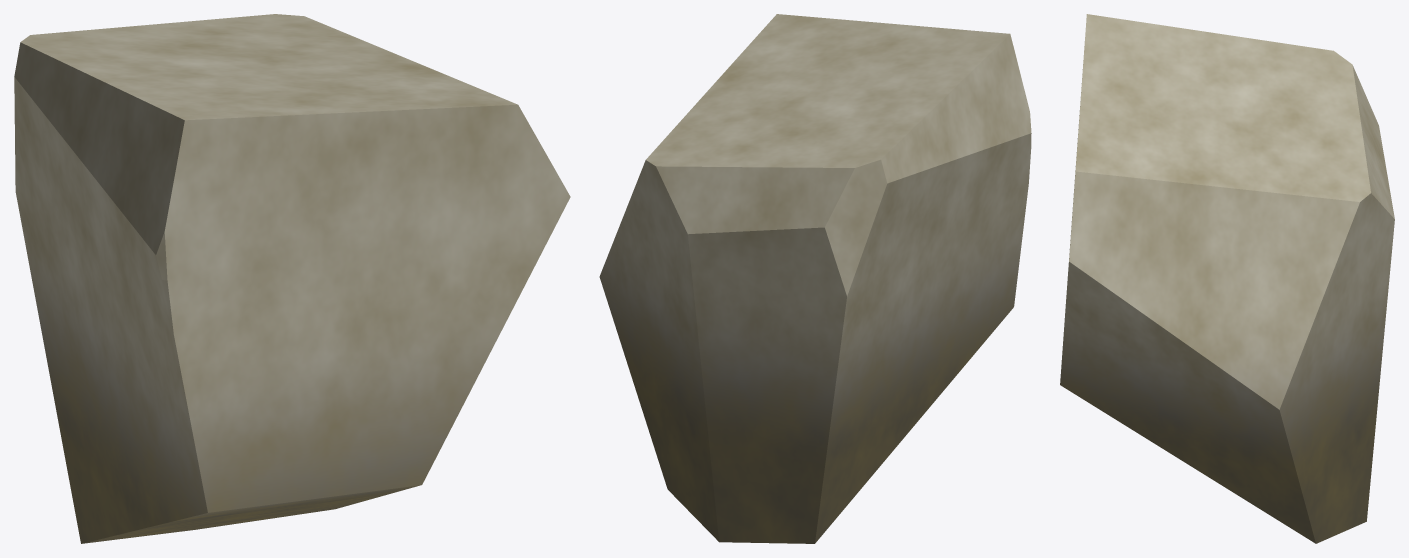
The model's file is rock_03.glb.
The picture shows the model from 3 angles, left to right: view 1: azimuth 30°, elevation 25°; view 2: azimuth 150°, elevation 25°; view 3: azimuth 270°, elevation 25°; orthographic projection. The views are drawn at different scales.
Parts seen in each view (by area): view 1: Roundcube.002; view 2: Roundcube.002; view 3: Roundcube.002.
Part boxes in pixels (bbox=[...]): Roundcube.002: bbox=[14, 14, 570, 543]; Roundcube.002: bbox=[599, 14, 1031, 543]; Roundcube.002: bbox=[1060, 14, 1394, 543].
Size of the model in its own units: 1.73 by 2.18 by 1.52.
1 material, 1 textured.
